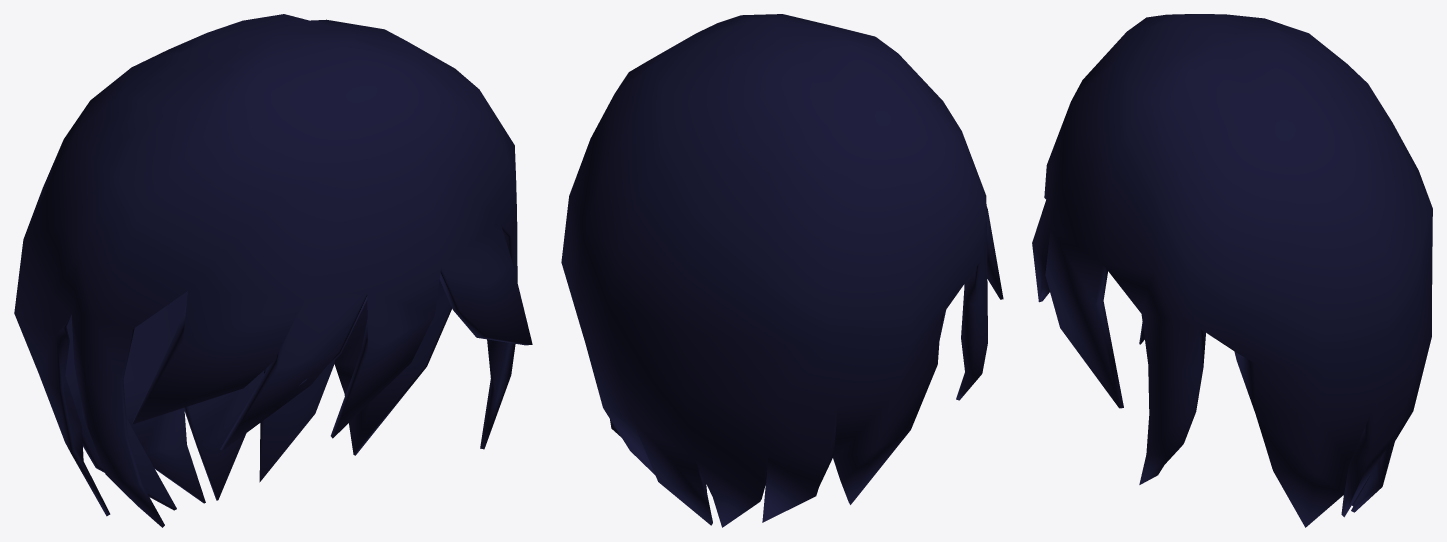
File: male_hair_1.fbx
The picture shows the model from 3 angles, left to right: view 1: azimuth 30°, elevation 25°; view 2: azimuth 150°, elevation 25°; view 3: azimuth 270°, elevation 25°; orthographic projection. The views are drawn at different scales.
Parts seen in each view (by area): view 1: Male Hair 1; view 2: Male Hair 1; view 3: Male Hair 1.
Part boxes in pixels (box(x1,y1,x2,y2)): Male Hair 1: box(14, 14, 532, 527); Male Hair 1: box(561, 14, 1003, 527); Male Hair 1: box(1032, 14, 1432, 527).
Bounding box in the file's own units: 112 × 126 × 97.85.
